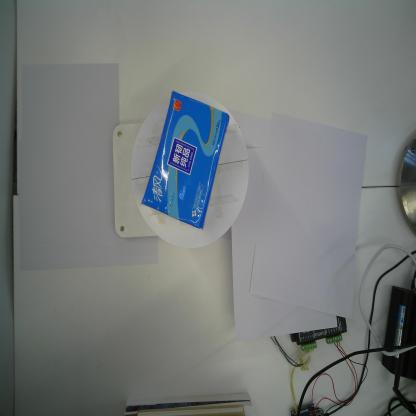Tissue: (142, 90, 230, 230)
